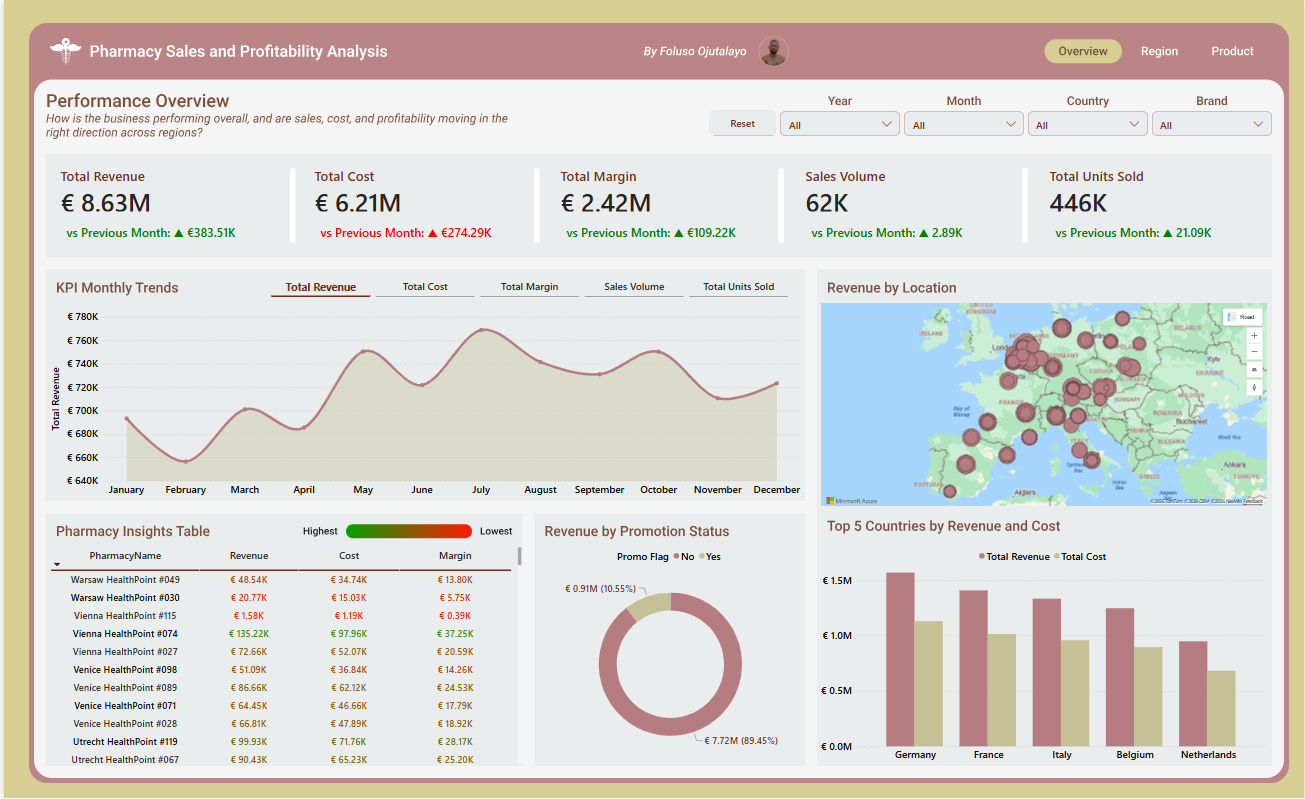

What the dashboard file says about the page in this screenshot:
{"tool":"powerbi","page":{"name":"Overview","canvas":[2600,1600],"ordinal":0},"visuals":[{"type":"cardVisual","fields":{"Data":["_Measures.Total Revenue"]},"box":[85,326,450,180],"z":0},{"type":"cardVisual","fields":{"Data":["_Measures.Total Cost"]},"box":[591.7,325.7,450,180],"z":1000},{"type":"cardVisual","fields":{"Data":["_Measures.Total Margin"]},"box":[1084.3,326,450,180],"z":2000},{"type":"cardVisual","fields":{"Data":["_Measures.Sales Volume"]},"box":[1573.7,325.7,450,180],"z":3000},{"type":"cardVisual","fields":{"Data":["_Measures.Total Units Sold"]},"box":[2061.7,325.7,450,180],"z":4000},{"type":"areaChart","fields":{"Y":["_Measures.Total Revenue"],"Category":["DimDate.Month"]},"box":[88.6,614.3,1512.9,388.6],"z":5000},{"type":"advancedSlicerVisual","fields":{"Values":["Parameter.Parameter"]},"box":[527.1,544.3,1047.1,55.7],"z":6000},{"type":"tableEx","fields":{"Values":["DimPharmacy.PharmacyName","_Measures.Total Revenue","_Measures.Total Cost","_Measures.Total Margin"]},"box":[88.9,1088.9,953.3,444.4],"z":7000},{"type":"azureMap","fields":{"Series":["DimPharmacy.Latitude"]},"box":[1628.8,602.5,902.5,416.2],"z":8000},{"type":"donutChart","fields":{"Category":["FactSales.PromoFlag"],"Y":["_Measures.Total Revenue"]},"box":[1063.8,1088.8,537.5,445],"z":9000},{"type":"clusteredColumnChart","fields":{"Category":["DimPharmacy.Country"],"Y":["_Measures.Total Revenue","_Measures.Total Cost"]},"box":[1628.6,1088.6,902.9,445.7],"z":10000},{"type":"slicer","fields":{"Values":["DimPharmacy.Country"]},"box":[2048.6,220.3,238.3,50.8],"z":11000},{"type":"slicer","fields":{"Values":["DimProduct.Brand"]},"box":[2296.4,220.3,238.6,50.7],"z":12000},{"type":"slicer","fields":{"Values":["DimDate.Month"]},"box":[1801.4,220.1,237.8,51.1],"z":13000},{"type":"slicer","fields":{"Values":["DimDate.Year"]},"box":[1554.3,220.4,237.6,50.6],"z":14000},{"type":"actionButton","title":"Reset","box":[1410.8,220.1,134,51.2],"z":15000},{"type":"actionButton","box":[2098.8,82.5,123.8,43.8],"z":15001},{"type":"actionButton","box":[2248.8,82.5,123.8,43.8],"z":15002},{"type":"actionButton","box":[2397.5,82.5,123.8,43.8],"z":15003}]}

Visuals, with their boxes in screenshot pixels (x1, y1, x2, y2), scaled from the page's 2600x1600 canvas onto the 1305x799 screenshot:
cardVisual - _Measures.Total Revenue: detection(43, 163, 269, 253)
cardVisual - _Measures.Total Cost: detection(297, 163, 523, 253)
cardVisual - _Measures.Total Margin: detection(544, 163, 770, 253)
cardVisual - _Measures.Sales Volume: detection(790, 163, 1016, 253)
cardVisual - _Measures.Total Units Sold: detection(1035, 163, 1261, 253)
areaChart - _Measures.Total Revenue x DimDate.Month: detection(44, 307, 804, 501)
advancedSlicerVisual - Parameter.Parameter: detection(265, 272, 790, 300)
tableEx - DimPharmacy.PharmacyName x _Measures.Total Revenue: detection(45, 544, 523, 766)
azureMap - DimPharmacy.Latitude: detection(818, 301, 1271, 509)
donutChart - FactSales.PromoFlag x _Measures.Total Revenue: detection(534, 544, 804, 766)
clusteredColumnChart - DimPharmacy.Country x _Measures.Total Revenue: detection(817, 544, 1271, 766)
slicer - DimPharmacy.Country: detection(1028, 110, 1148, 135)
slicer - DimProduct.Brand: detection(1153, 110, 1272, 135)
slicer - DimDate.Month: detection(904, 110, 1024, 135)
slicer - DimDate.Year: detection(780, 110, 899, 135)
"Reset" actionButton: detection(708, 110, 775, 135)
actionButton: detection(1053, 41, 1116, 63)
actionButton: detection(1129, 41, 1191, 63)
actionButton: detection(1203, 41, 1265, 63)
